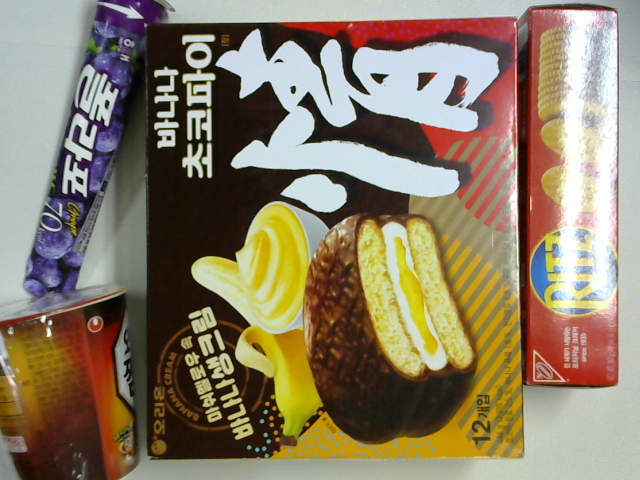Choco_Pie_Banana: (146, 17, 526, 462)
Ojjam: (1, 284, 140, 478)
Polapo_Grape: (23, 1, 175, 296)
Ritz_Cracker: (513, 3, 618, 391)
